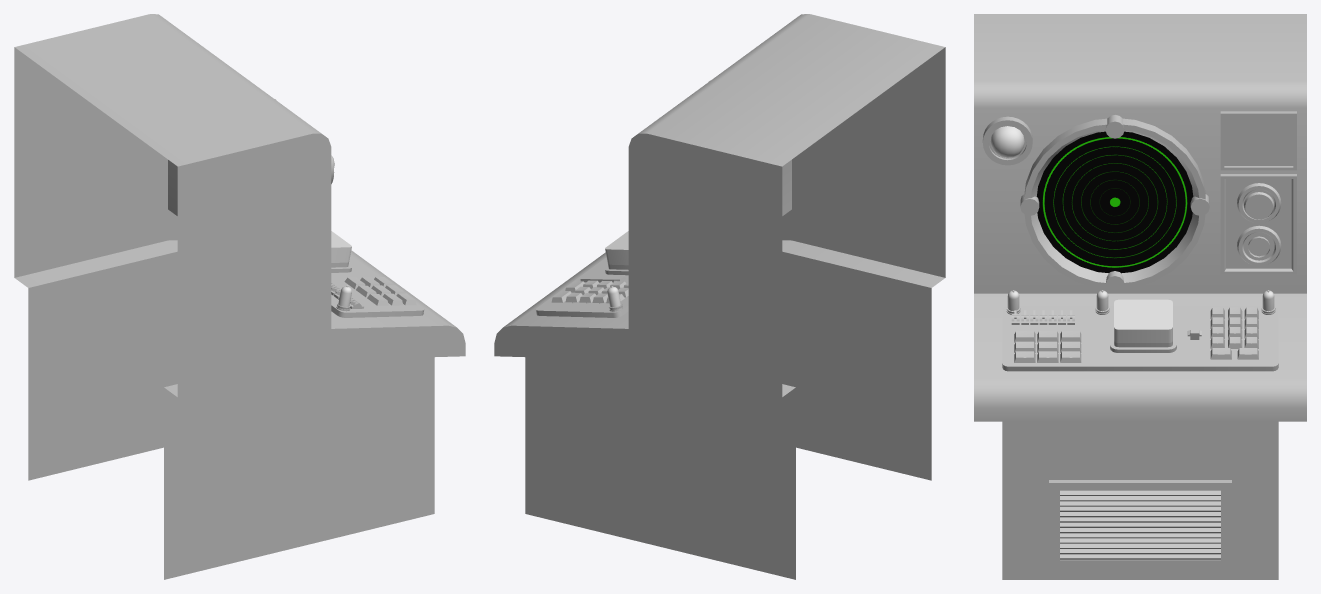
Rendered from SM_RulesOfEngagement.fbx.
3 renders of one model, left to right at view 1: azimuth 30°, elevation 25°; view 2: azimuth 150°, elevation 25°; view 3: azimuth 270°, elevation 25°, orthographic.
Parts seen in each view (by area): view 1: RulesOfEngagement, KeyboardBase; view 2: RulesOfEngagement, KeyboardBase, Cube.043; view 3: RulesOfEngagement, RadarScreen, Plane.002, KeyboardBase, ButtonFrame, went, İnfoScreen, Cube.043, Cube.034, RoE_StationLightHolder, RoE_Light, ButtonHolder (+1 smaller).
Boxes of the visible parts, x1,y1,x2,y2 form: RulesOfEngagement: [14, 14, 465, 579]; KeyboardBase: [331, 255, 424, 317]; RulesOfEngagement: [494, 14, 945, 579]; KeyboardBase: [535, 257, 628, 317]; Cube.043: [605, 231, 628, 265]; RulesOfEngagement: [974, 14, 1306, 579]; RadarScreen: [1024, 118, 1205, 288]; Plane.002: [1060, 490, 1220, 559]; KeyboardBase: [1002, 306, 1278, 371]; ButtonFrame: [1220, 174, 1296, 274]; went: [1049, 480, 1231, 567]; İnfoScreen: [1220, 111, 1296, 170]; Cube.043: [1114, 299, 1172, 342]; Cube.034: [1020, 115, 1209, 292]; RoE_StationLightHolder: [982, 116, 1032, 165]; RoE_Light: [990, 126, 1024, 158]; ButtonHolder: [1110, 316, 1176, 352].
Bounding box in the file's own units: 150 × 211 × 147.
